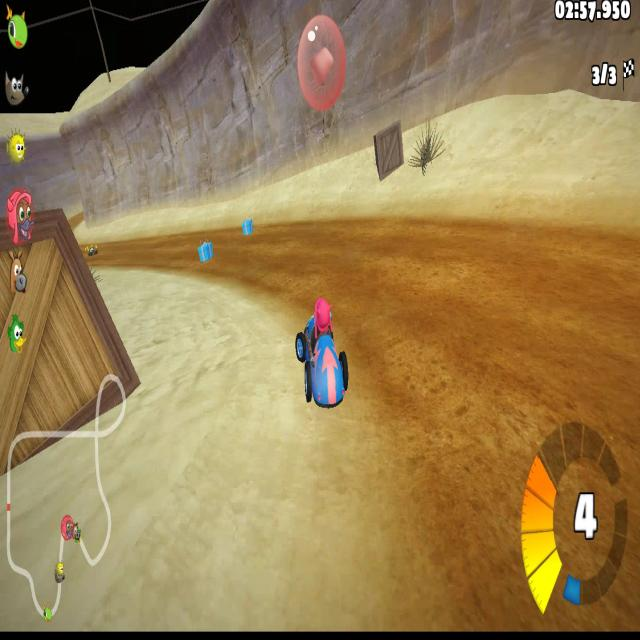player_kart: (293, 310, 350, 425)
track: (355, 430, 640, 640), (352, 309, 640, 425), (335, 226, 640, 305), (266, 223, 336, 296), (106, 241, 194, 268), (218, 257, 268, 284), (212, 230, 236, 253), (67, 210, 86, 227), (167, 232, 217, 236)
